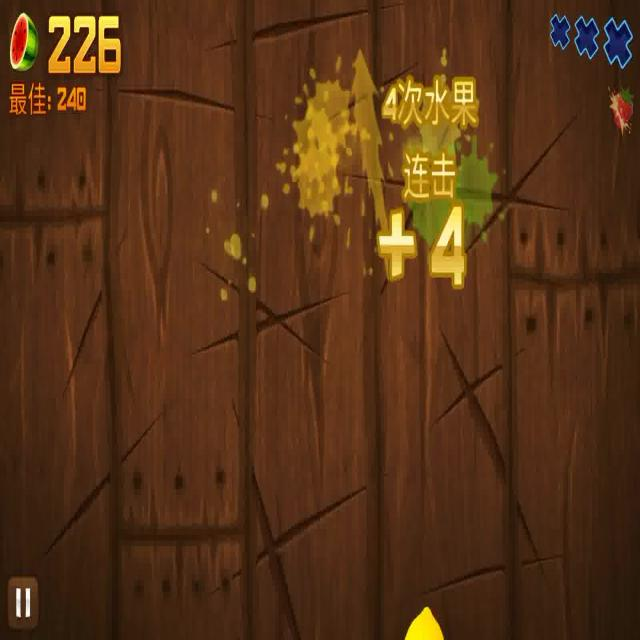fruit: (402, 605, 447, 640)
